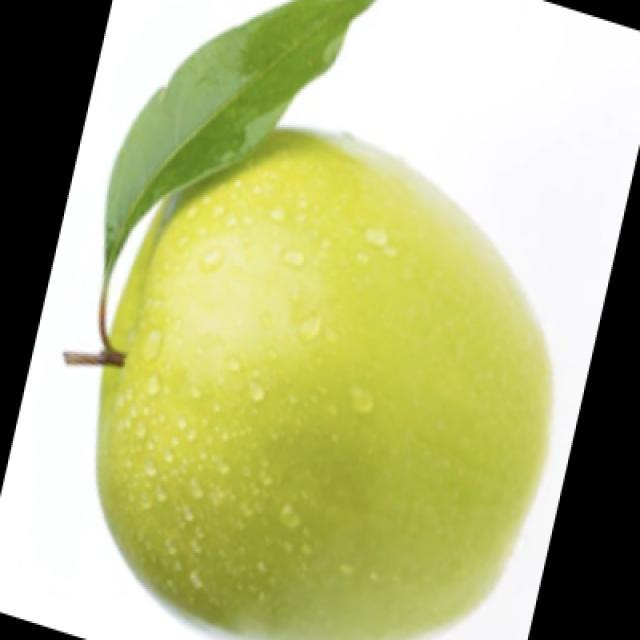Fresh Apple: (98, 156, 544, 640)
